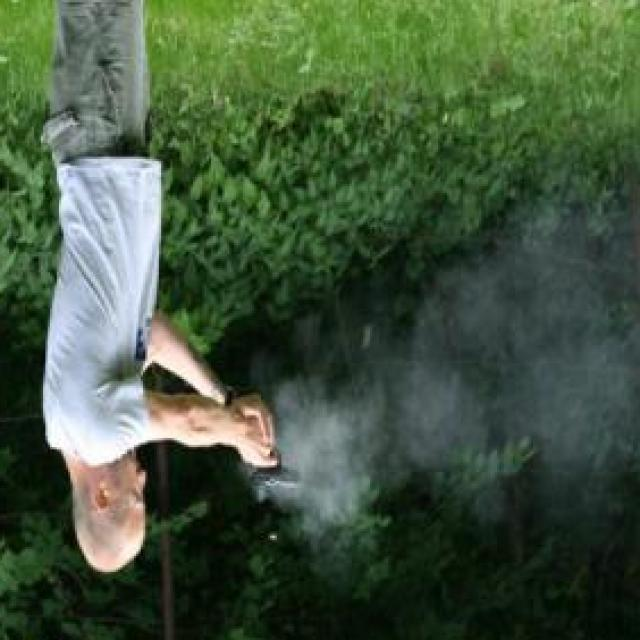pistol: (241, 440, 303, 486)
